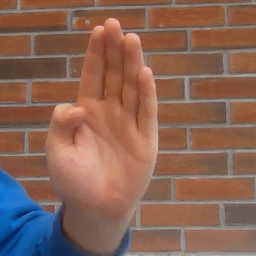B: (43, 17, 162, 211)
